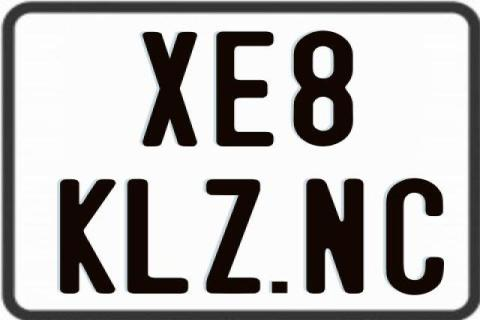0: (293, 30, 354, 150)
C: (385, 176, 447, 294)
E: (216, 32, 279, 150)
K: (59, 179, 117, 297)
L: (125, 179, 186, 299)
N: (306, 178, 365, 298)
X: (142, 30, 200, 144)
Z: (206, 178, 262, 294)
